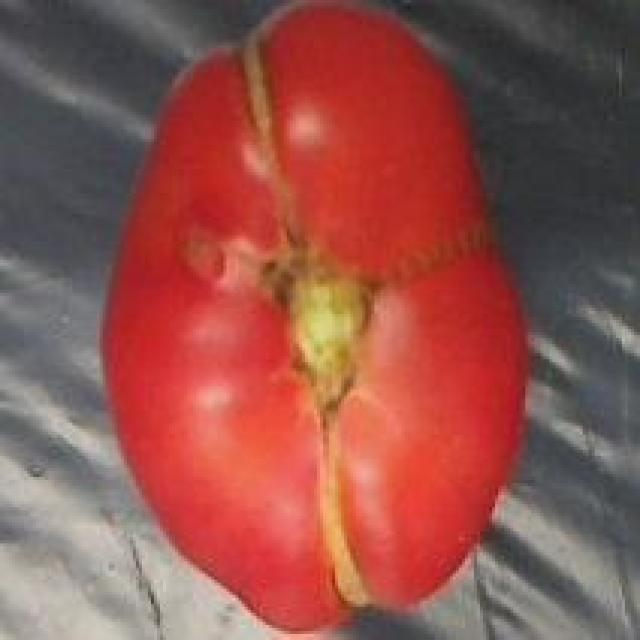overripe tomato: (90, 3, 556, 640)
